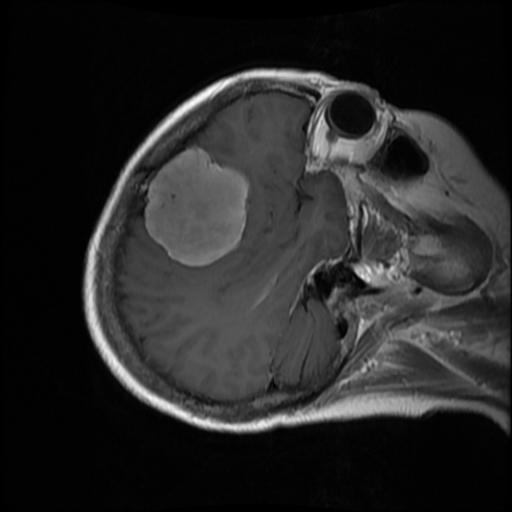meningioma: (142, 147, 249, 267)
